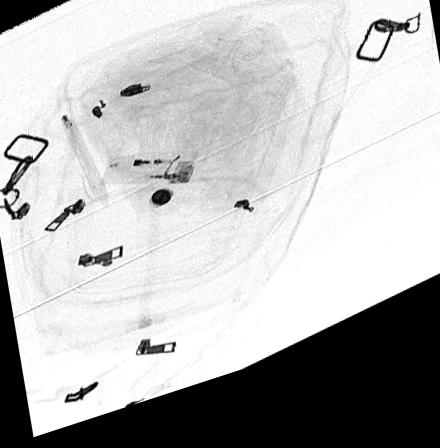Lighter: (100, 161, 196, 193)
